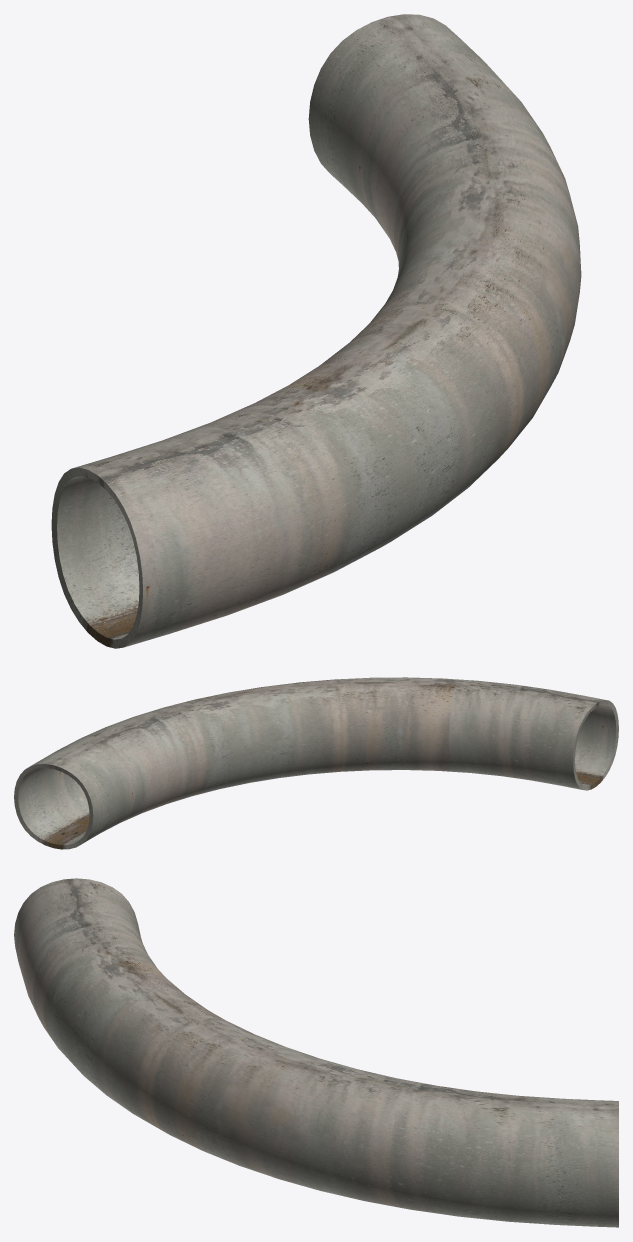
File: Tube_2_L_K_Big.fbx
3 views of the same model, one above another, from view 1: azimuth 30°, elevation 25°; view 2: azimuth 150°, elevation 25°; view 3: azimuth 270°, elevation 25° (orthographic). The views are drawn at different scales.
Parts seen in each view (by area): view 1: Tube_2_L_K_Big; view 2: Tube_2_L_K_Big; view 3: Tube_2_L_K_Big.
Part boxes in pixels (bbox=[...]): Tube_2_L_K_Big: bbox=[51, 14, 581, 648]; Tube_2_L_K_Big: bbox=[14, 677, 618, 849]; Tube_2_L_K_Big: bbox=[14, 878, 618, 1227].
Bounding box in the file's own units: 1785 × 369 × 1785.
